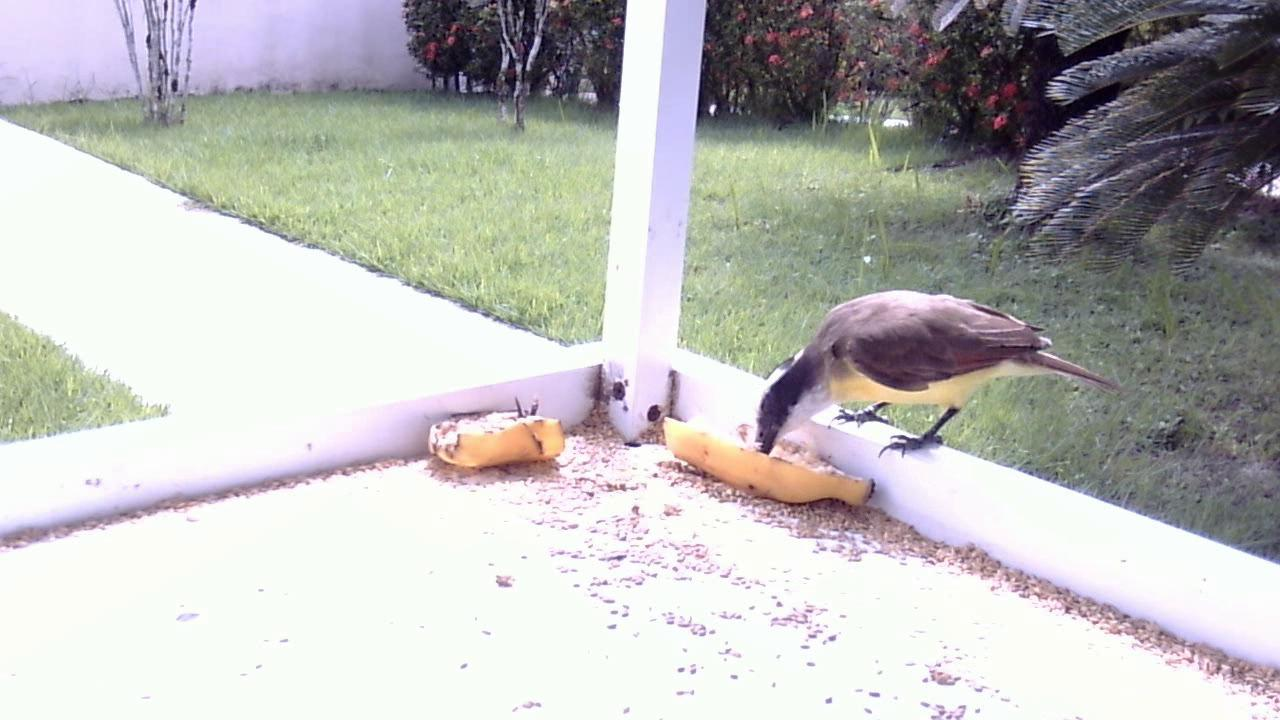bem_te_vi: (744, 284, 1127, 494)
